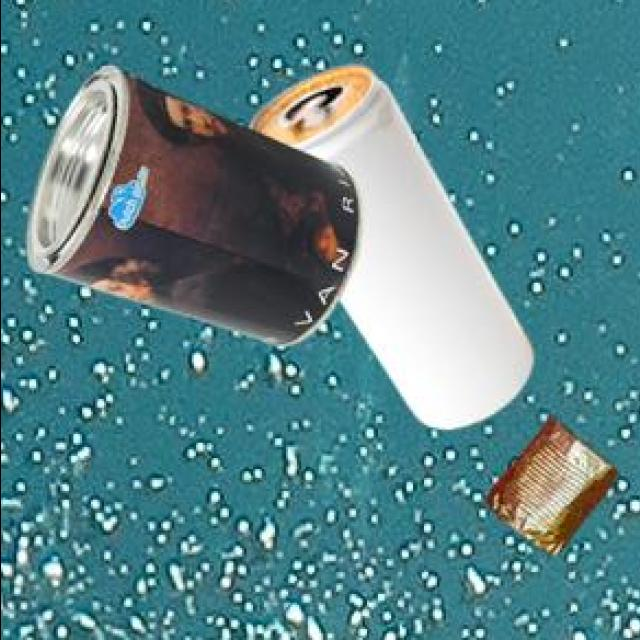logam: (251, 62, 536, 426), (30, 62, 365, 343), (490, 415, 619, 551)
